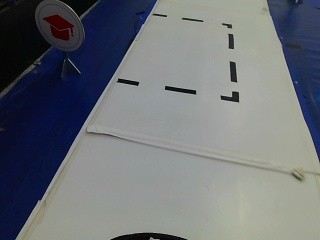school: (34, 0, 83, 53)
